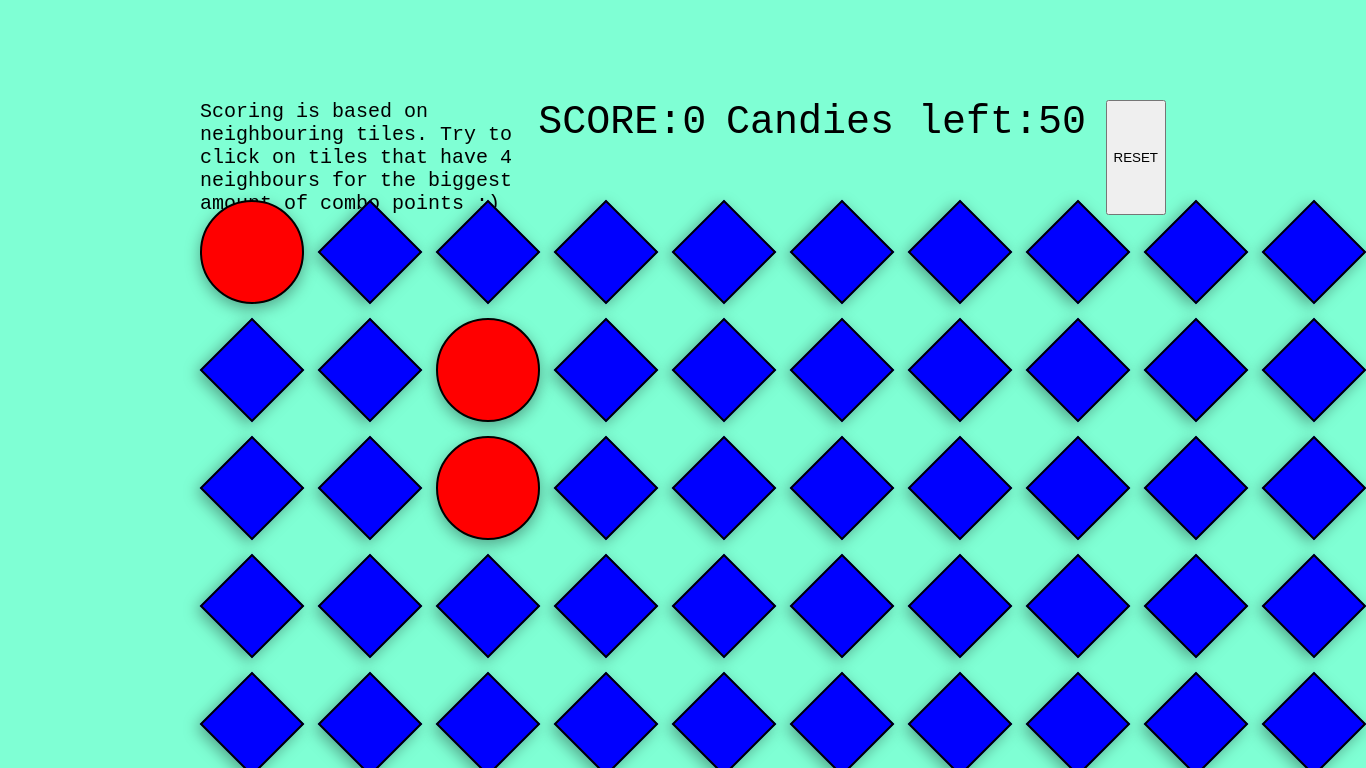
Scenario: Scoring and candy movement › Should add the correct amount of point for combos of 1 and 2 candies
Click the element with test id "Candy@0x,0y": x=252, y=252 left=200, top=200, right=304, bottom=304
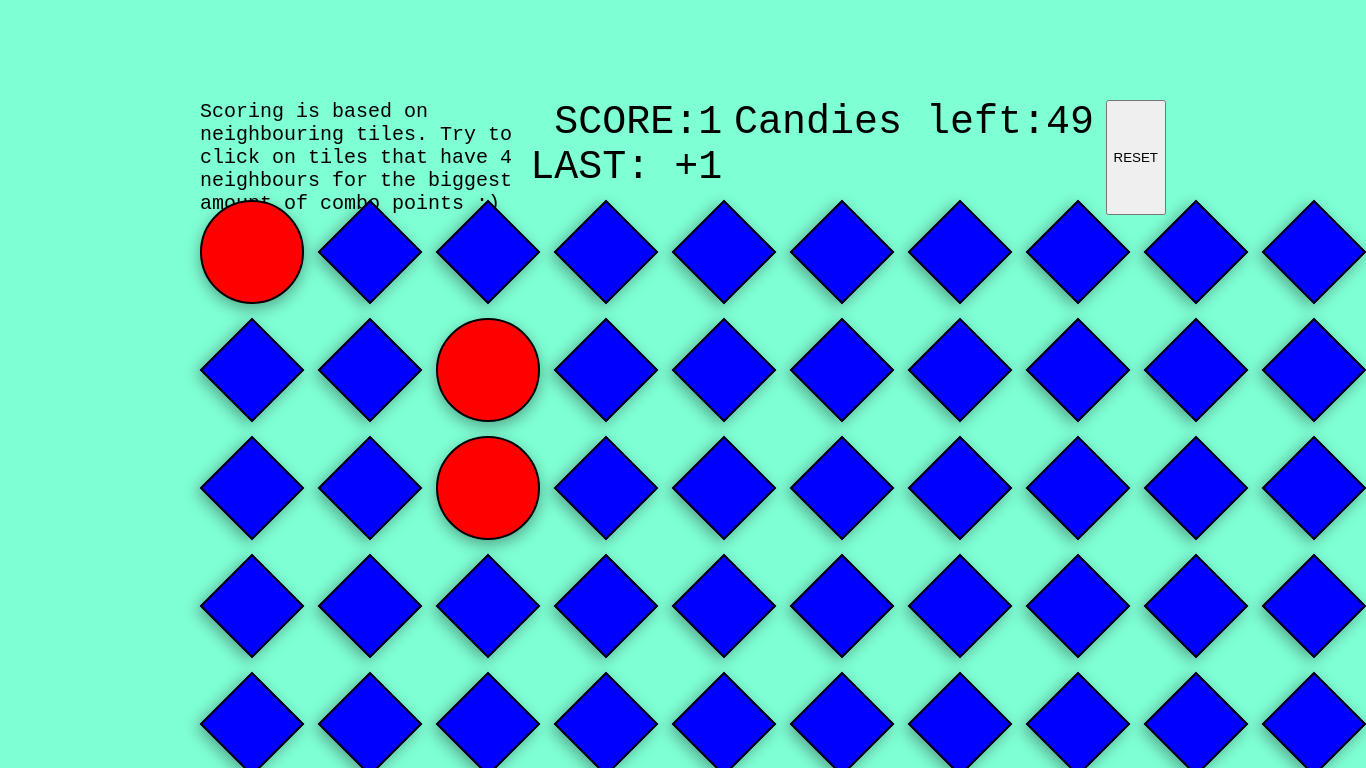
expect the text "1" is shown: met, box left=698, top=100, right=722, bottom=145
# 2 candies
Click the element with test id "Candy@2x,2y": x=488, y=488 left=436, top=436, right=540, bottom=540
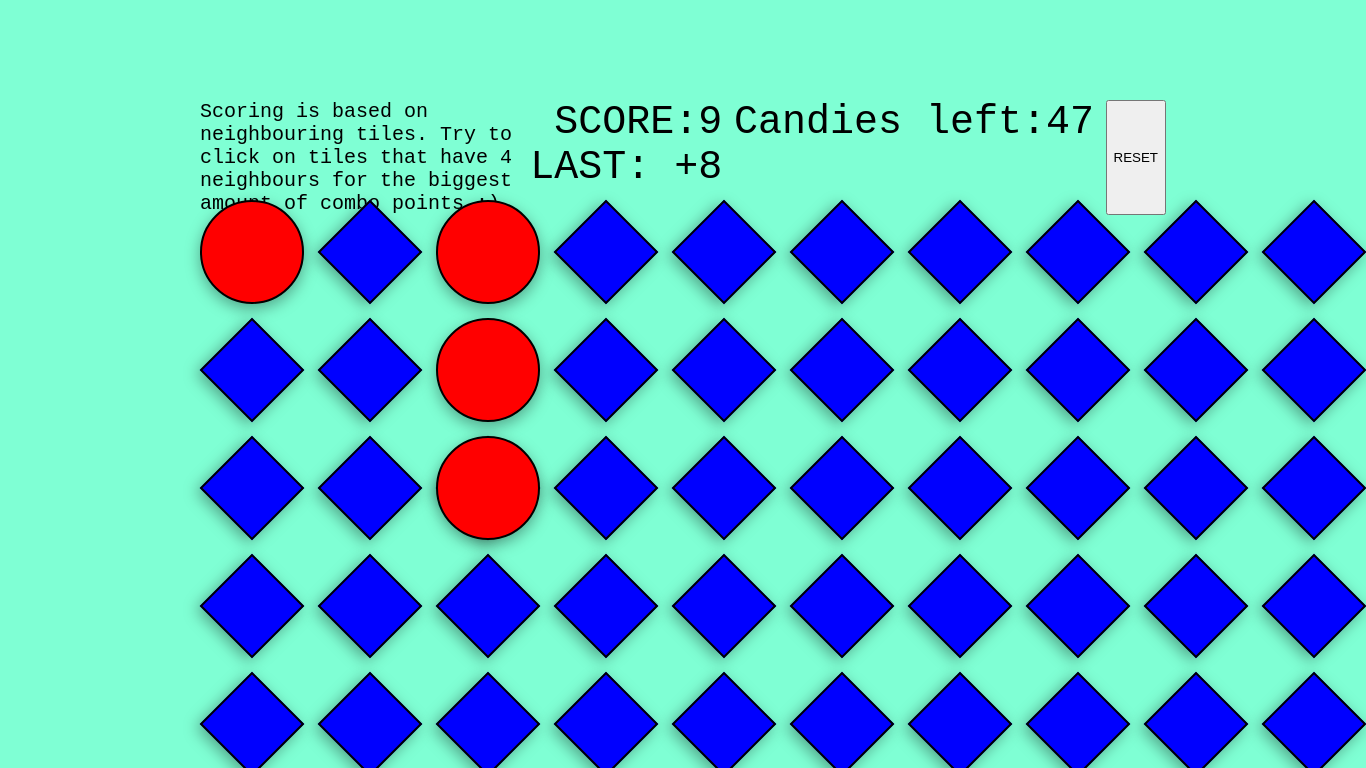
expect the text "9" is shown: met, box left=698, top=100, right=722, bottom=145
